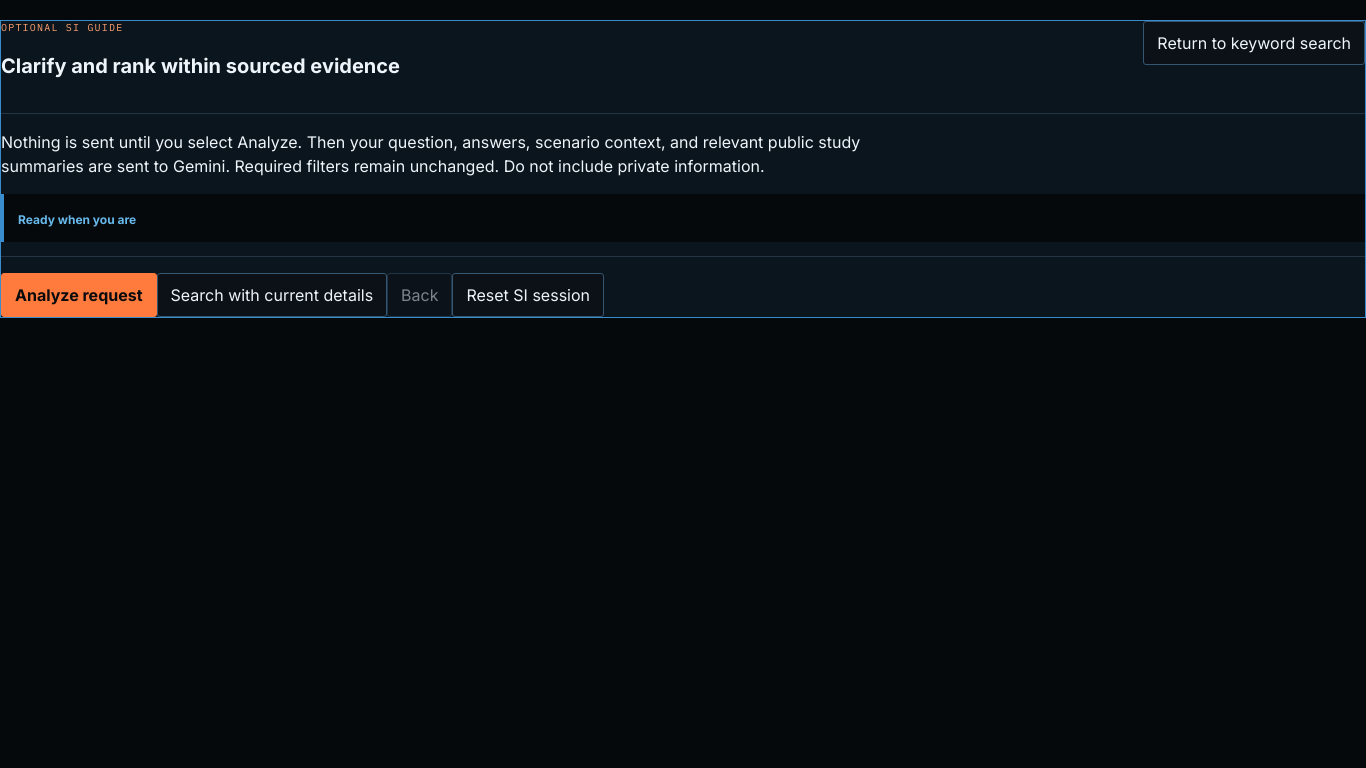
Test case: search-now is distinct from keyword and reset clears conversation
Click the button "Search with current details": (272, 295) top-left (156, 273), bottom-right (387, 317)
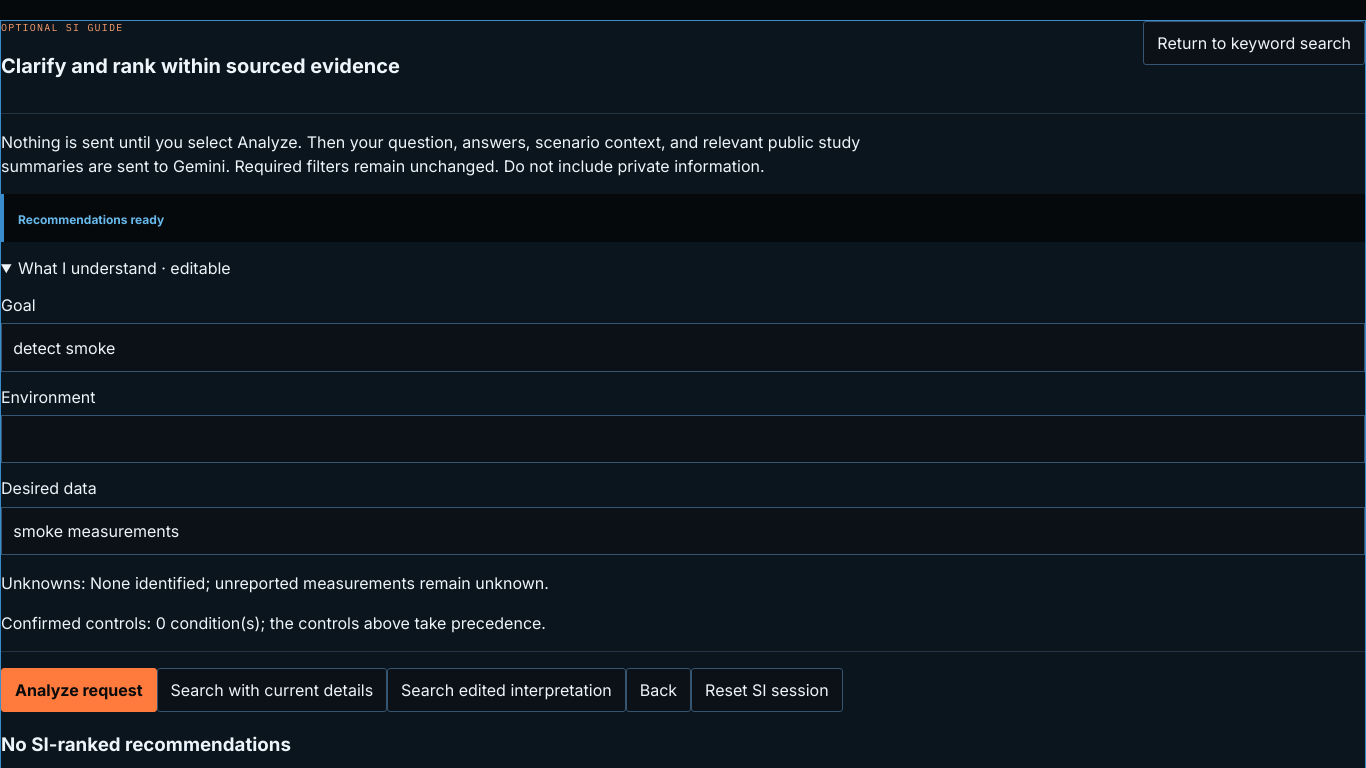
Click the button "Reset SI session": (767, 690) top-left (691, 668), bottom-right (843, 712)
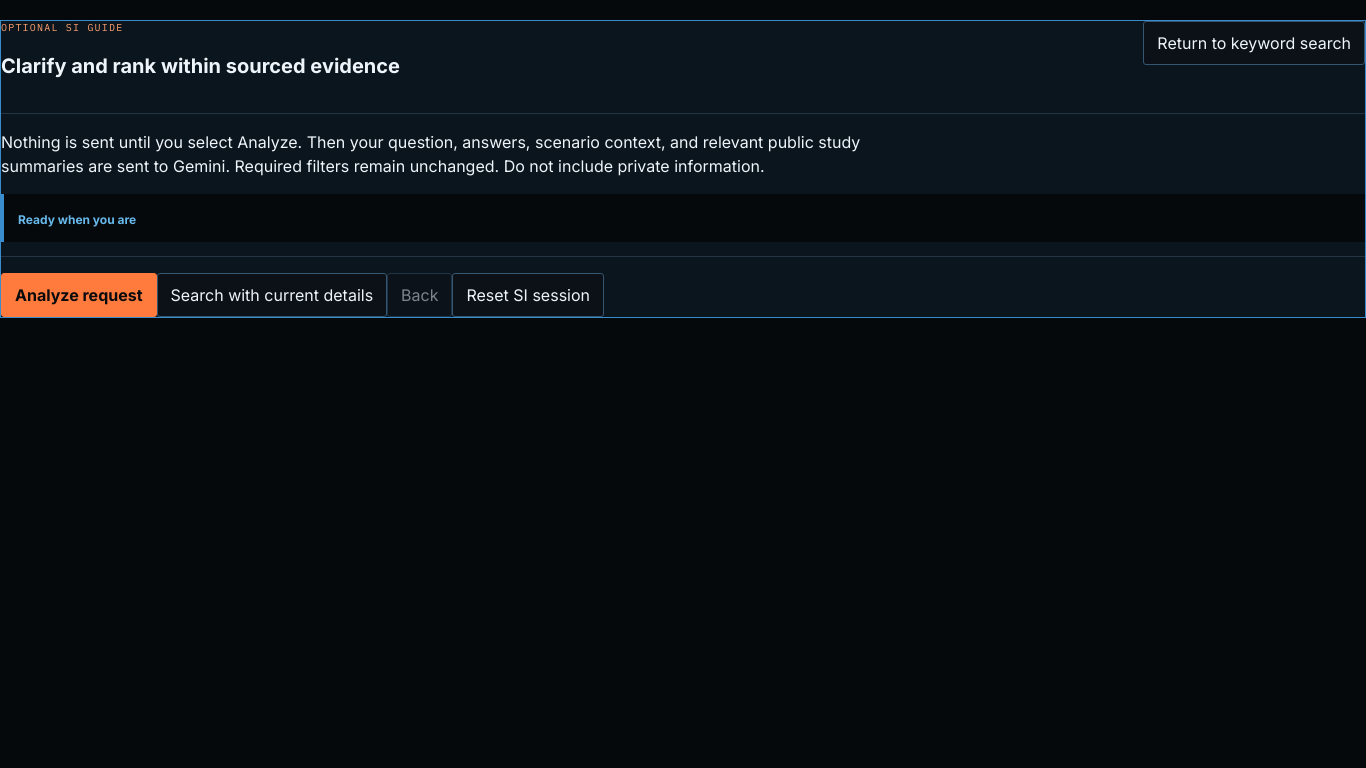
Check: the text "What I understand" is gone
